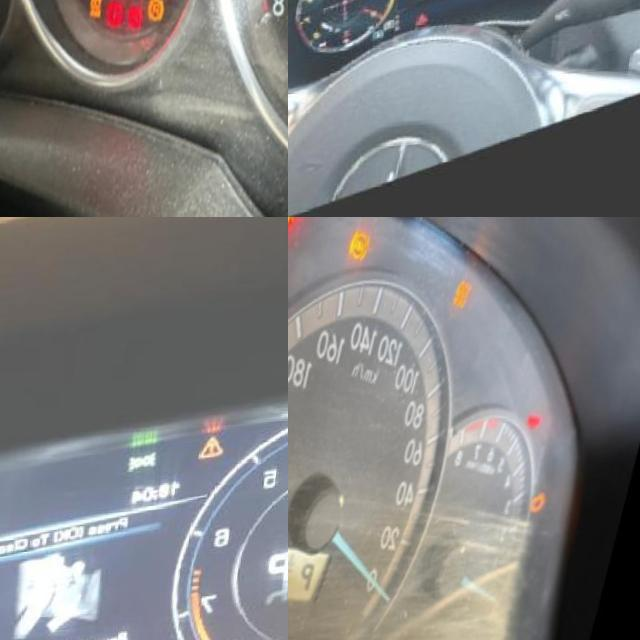Doors: (288, 217, 303, 242)
Engine cooling system: (358, 24, 370, 35)
